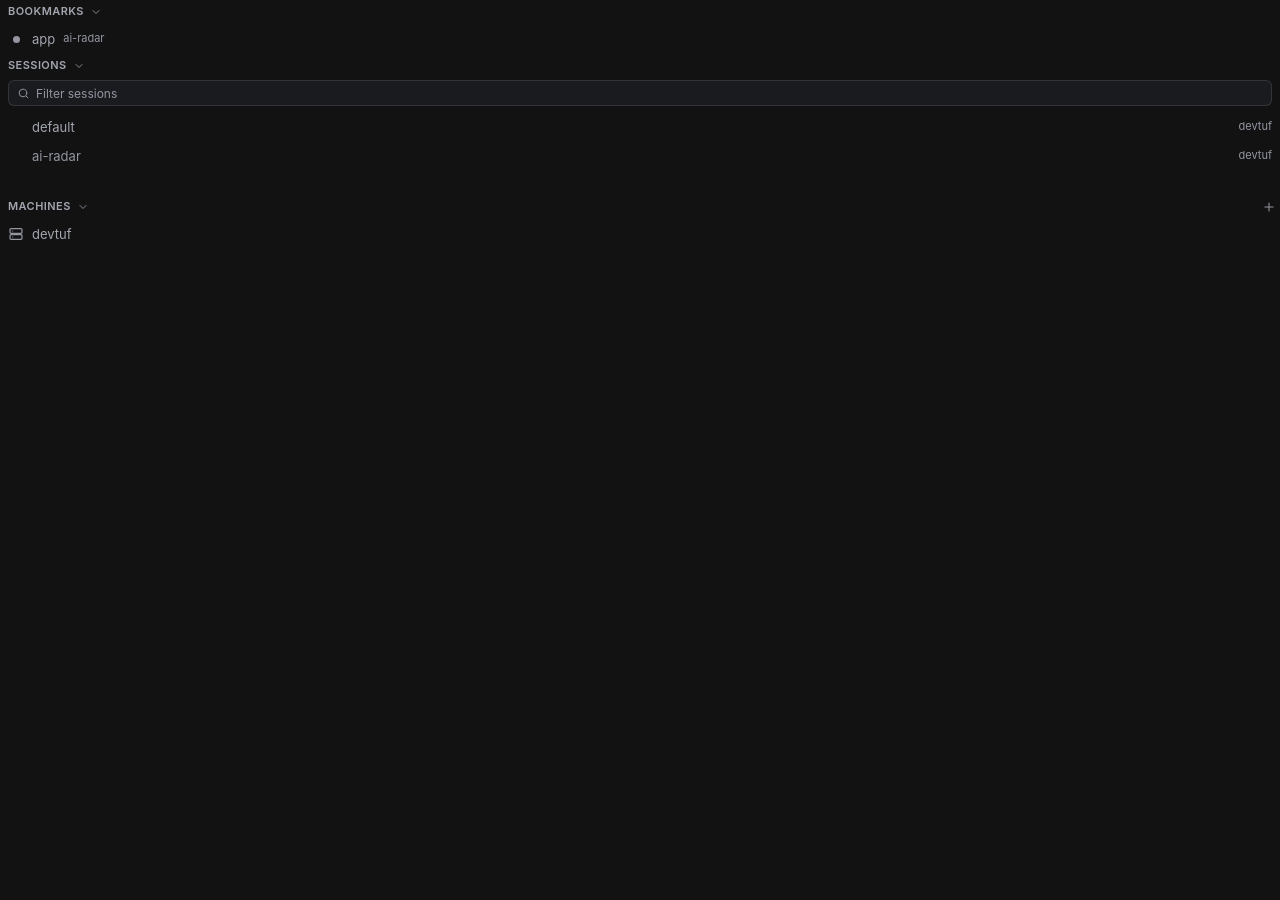
Sidebar › leaves layout keys unchanged if a Session rename fails
Right-click the button with aria-label "Start ai-radar" at point(56, 156), box [0,142,1279,170]
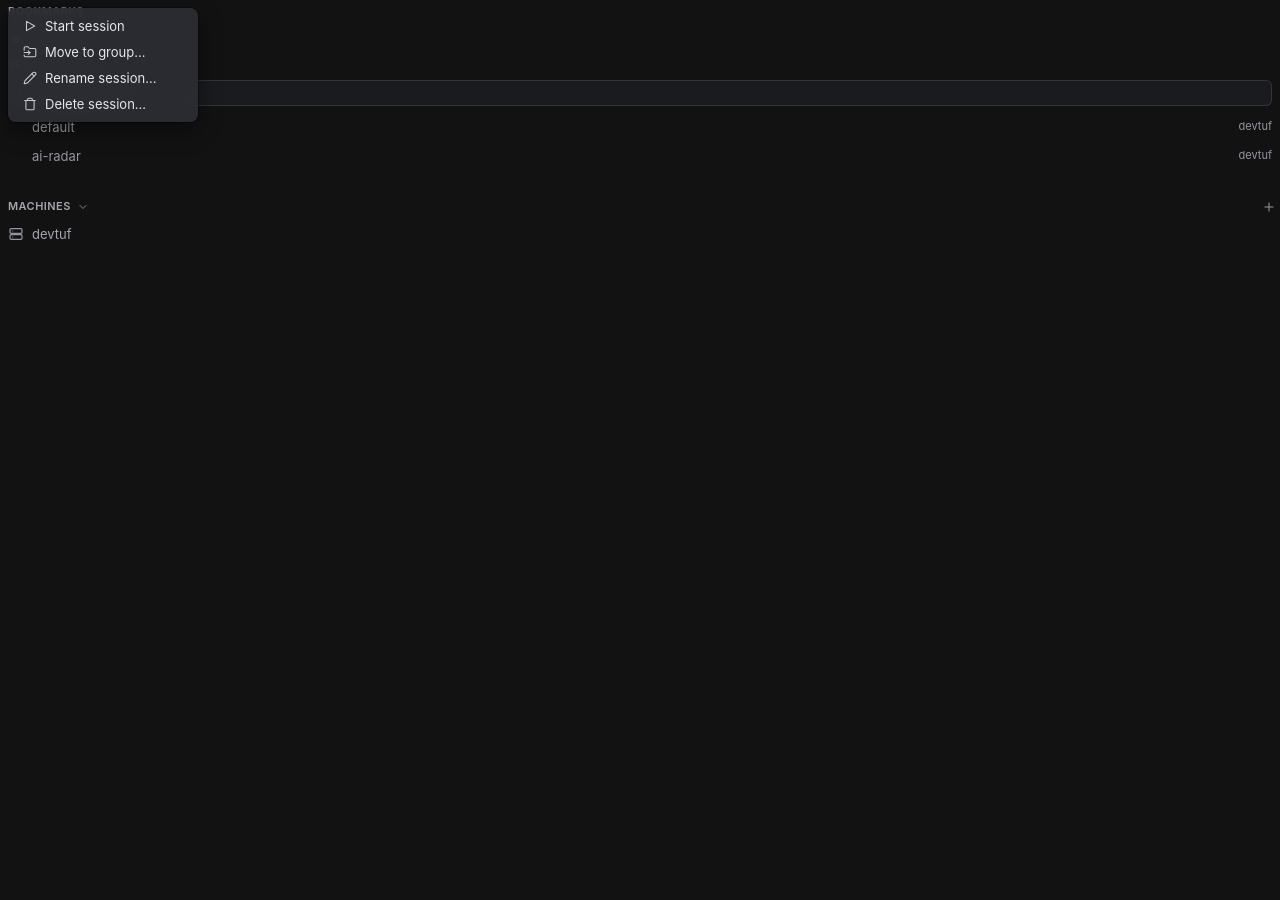
Click the menu item "Rename session…" at point(103, 78), box [13,65,193,91]
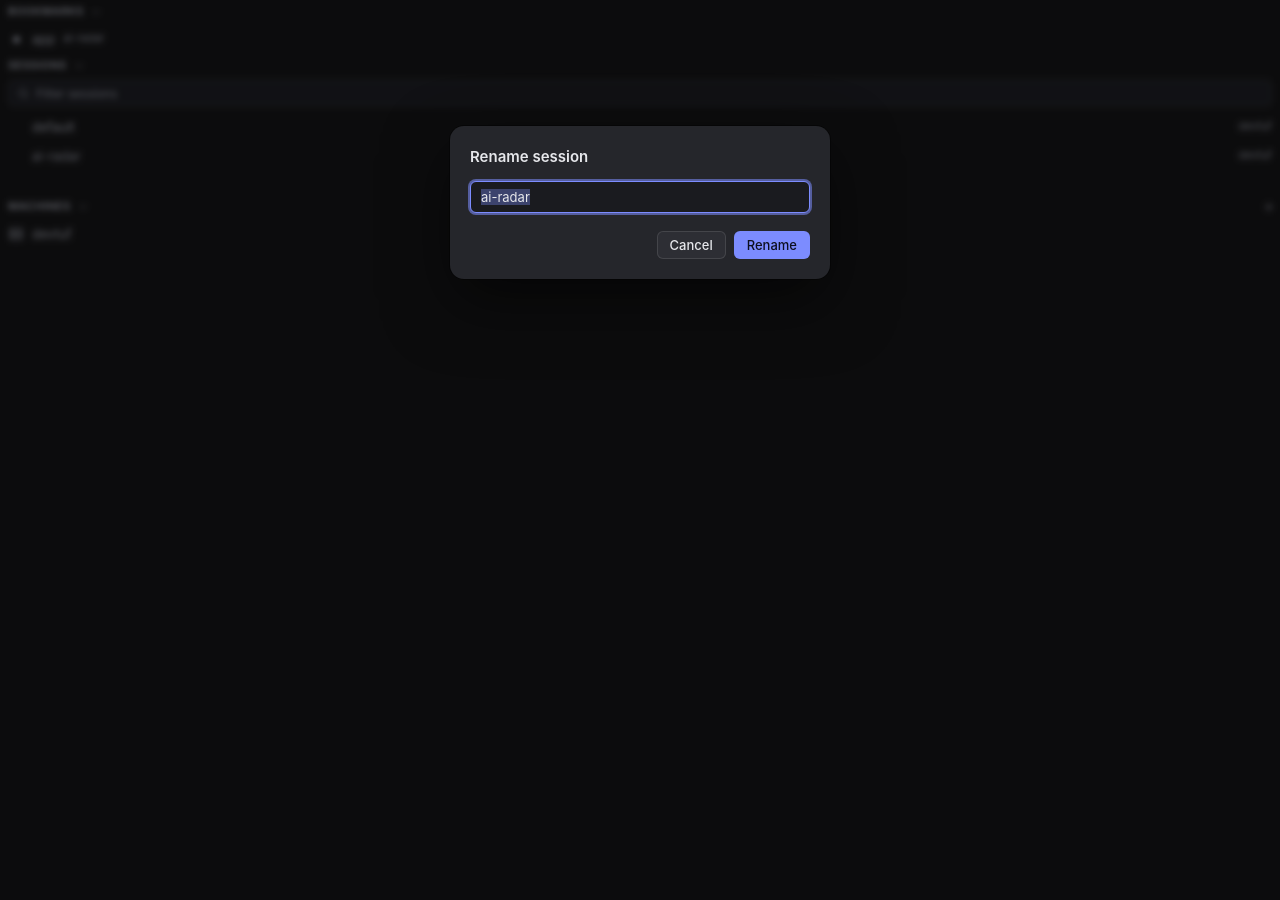
Replace the text in the field with "radar" at point(640, 197), box [470,181,810,213]
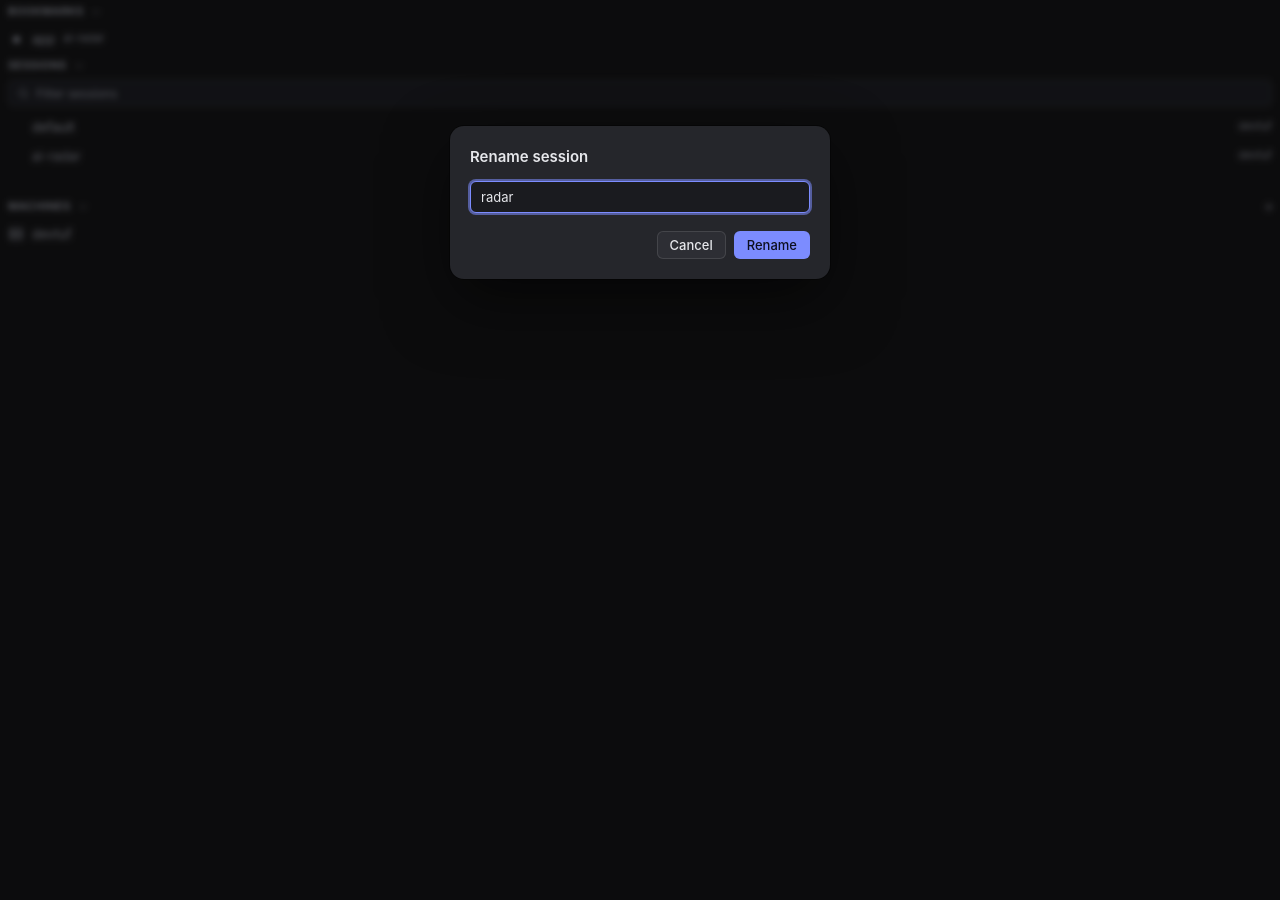
Click the button "Rename" at point(772, 245), box [734,231,810,259]
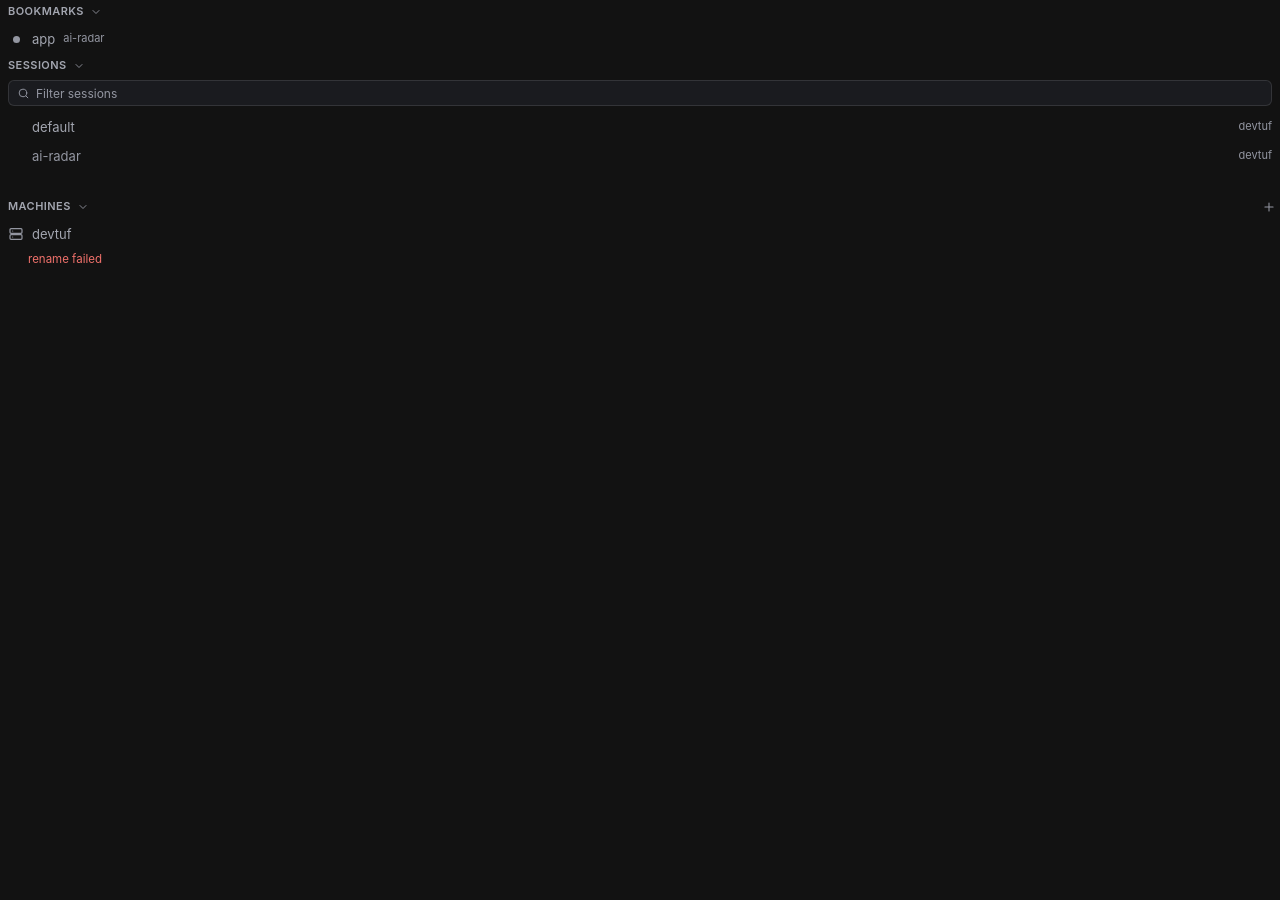
Expected: the text "rename failed" is shown, [28,252,102,266]
